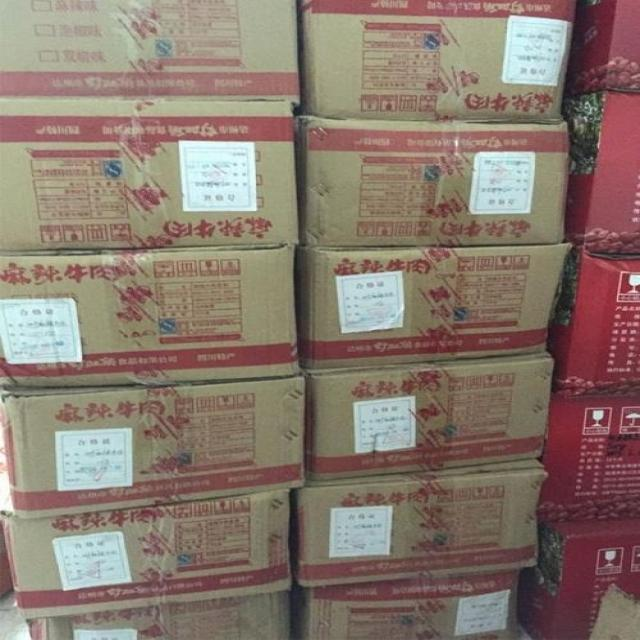Carton: (0, 245, 561, 390), (0, 103, 301, 255), (6, 375, 301, 510), (6, 495, 285, 618), (302, 114, 564, 244), (312, 353, 548, 481), (310, 0, 567, 117), (4, 0, 303, 100), (296, 469, 545, 585)
